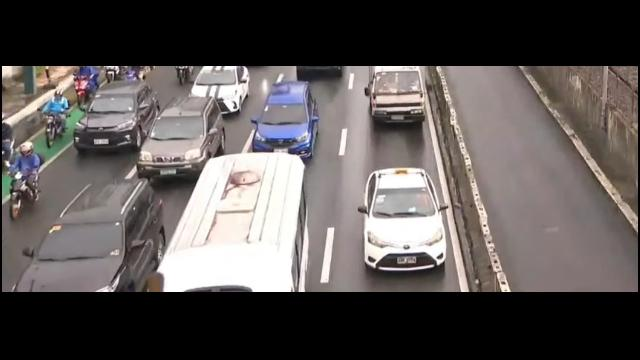bus: (144, 148, 323, 291)
car: (6, 175, 173, 294), (357, 167, 451, 274), (135, 97, 226, 183), (242, 82, 324, 161), (75, 81, 160, 153), (188, 64, 250, 117)
motorcycle: (4, 142, 41, 218), (40, 88, 70, 151), (66, 66, 99, 106), (173, 66, 199, 87), (104, 66, 123, 79)
truck: (364, 64, 428, 130)
